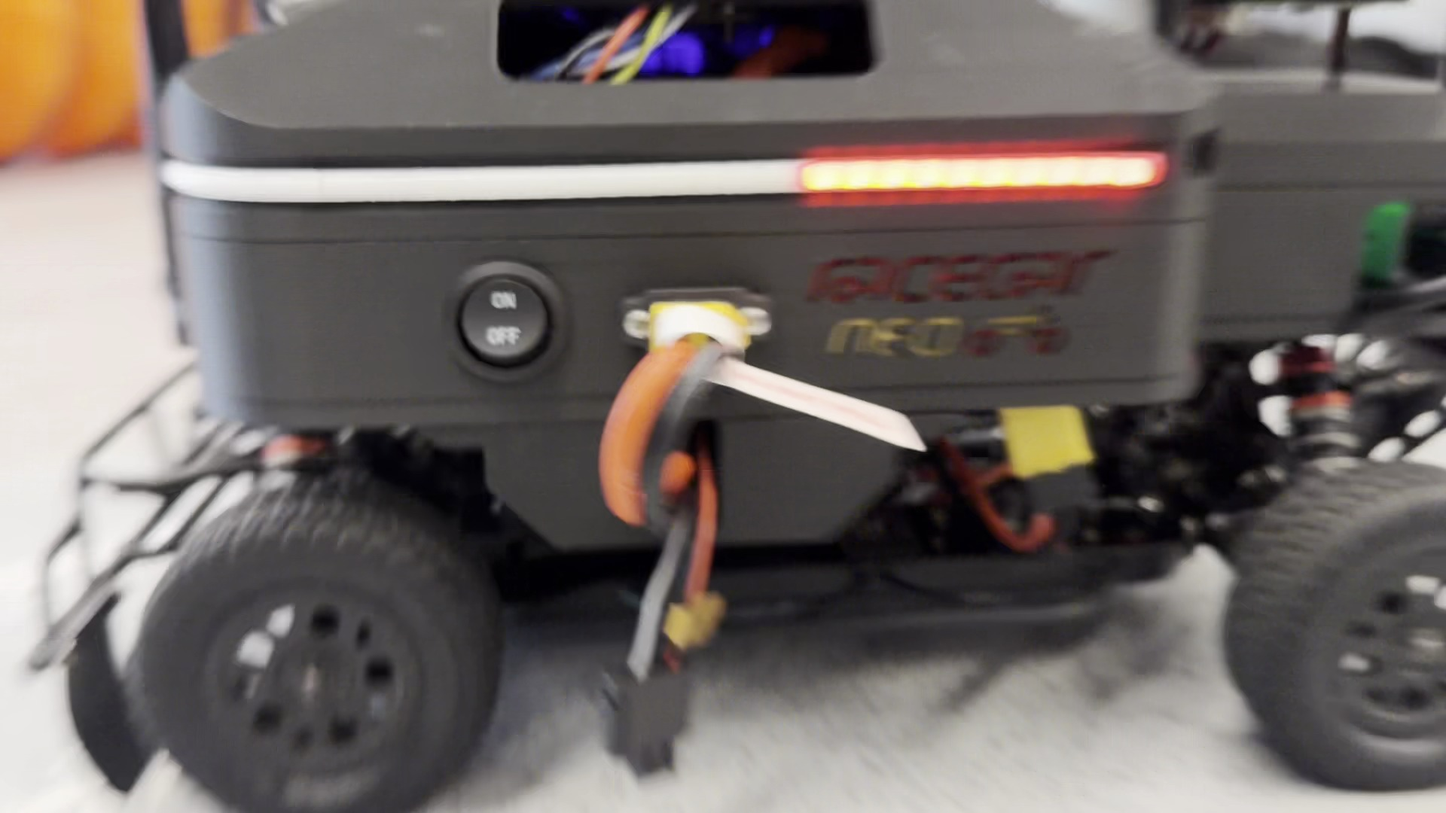racecar: (74, 0, 1405, 813)
